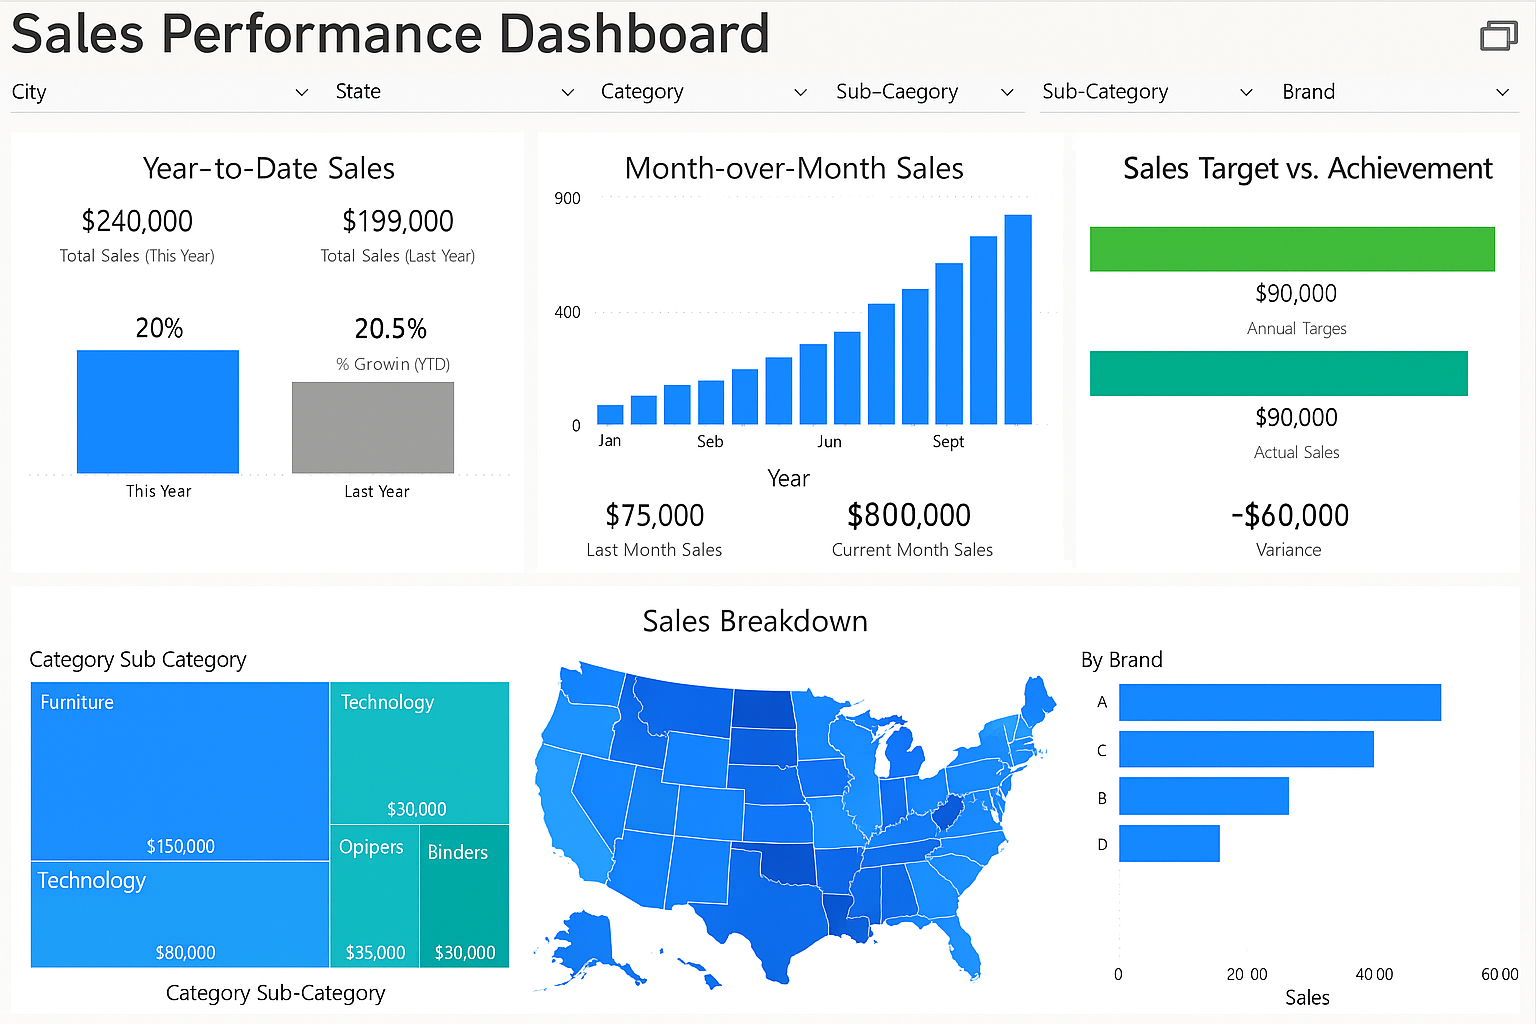

The dashboard page shown, as its layout file describes it:
{"tool":"powerbi","page":{"name":"DashBoard","canvas":[1280,720],"ordinal":0},"visuals":[{"type":"card","fields":{"Values":["SalesData.Total Sales"]},"box":[372.4,74.5,215.4,98.8],"z":0},{"type":"card","fields":{"Values":["SalesData.YTD Sales"]},"box":[799.9,0,239.6,98.8],"z":1},{"type":"card","fields":{"Values":["SalesData.This Month Sales"]},"box":[1037.1,0,242.9,98.8],"z":2},{"type":"card","fields":{"Values":["SalesData.Last Month Sales"]},"box":[374,186.2,215.4,115],"z":3},{"type":"card","fields":{"Values":["SalesData.MoM Growth"]},"box":[587.8,0,226.7,98.8],"z":4},{"type":"slicer","fields":{"Values":["DateTable.Date.Variation.Date Hierarchy.Month"]},"box":[0,72.9,145.7,126.3],"z":5},{"type":"clusteredColumnChart","fields":{"Category":["DateTable.Year"],"Y":["SalesData.YTD Sales","SalesData.Previous YTD Sales"]},"box":[5.7,565,325,155],"z":6},{"type":"clusteredBarChart","fields":{"Category":["SalesData.State"],"Y":["SalesData.Total Sales"]},"box":[330.3,307.7,404.8,173.3],"z":7},{"type":"pieChart","fields":{"Category":["SalesData.Brand"],"Y":["SalesData.Total Sales"]},"box":[335.2,491.7,365.9,228.3],"z":8},{"type":"treemap","fields":{"Group":["SalesData.Category"],"Details":["SalesData.Sub-Category"],"Values":["SalesData.Total Sales"]},"box":[589.4,98.8,374,202.4],"z":9},{"type":"map","fields":{"Category":["SalesData.City"],"Series":["SalesData.Category"]},"box":[1026.6,448,242.9,272],"z":10},{"type":"advancedSlicerVisual","fields":{"Values":["SalesData.State"]},"box":[0,213.7,330.3,168.4],"z":11},{"type":"textbox","box":[0,0,566.7,68],"z":12},{"type":"gauge","fields":{"Y":["SalesData.Total Sales"]},"box":[999.1,307.7,275.3,126.3],"z":13},{"type":"slicer","fields":{"Values":["SalesData.Category","SalesData.Sub-Category"]},"box":[168.4,74.5,191.1,149],"z":14},{"type":"slicer","fields":{"Values":["SalesData.Brand"]},"box":[168.4,388.6,150.6,174.9],"z":15},{"type":"ribbonChart","fields":{"Category":["SalesData.Brand"],"Y":["SalesData.Total Sales"]},"box":[701.1,511.1,325.5,208.9],"z":16},{"type":"donutChart","fields":{"Category":["SalesData.City"],"Y":["CountNonNull(SalesData.Category)"]},"box":[701.1,302.8,297.9,183],"z":17},{"type":"slicer","fields":{"Values":["SalesData.City"]},"box":[0,395.1,145.7,163.5],"z":18},{"type":"lineChart","fields":{"Y":["SalesData.Total Sales"],"Category":["SalesData.Tdate.Variation.Date Hierarchy.Month"]},"box":[975.6,105.2,304.4,202.4],"z":19}]}

Visuals, with their boxes on the page's 1280x720 design canvas (x1, y1, x2, y2). These are canvas units, not pixel positions in the 1536x1024 screenshot, which may show the page scaled, cropped or inside an application window:
card - SalesData.Total Sales: 372/74/588/173
card - SalesData.YTD Sales: 800/0/1040/99
card - SalesData.This Month Sales: 1037/0/1280/99
card - SalesData.Last Month Sales: 374/186/589/301
card - SalesData.MoM Growth: 588/0/814/99
slicer - DateTable.Date.Variation.Date Hierarchy.Month: 0/73/146/199
clusteredColumnChart - DateTable.Year x SalesData.YTD Sales: 6/565/331/720
clusteredBarChart - SalesData.State x SalesData.Total Sales: 330/308/735/481
pieChart - SalesData.Brand x SalesData.Total Sales: 335/492/701/720
treemap - SalesData.Category x SalesData.Sub-Category: 589/99/963/301
map - SalesData.City x SalesData.Category: 1027/448/1270/720
advancedSlicerVisual - SalesData.State: 0/214/330/382
textbox: 0/0/567/68
gauge - SalesData.Total Sales: 999/308/1274/434
slicer - SalesData.Category x SalesData.Sub-Category: 168/74/360/224
slicer - SalesData.Brand: 168/389/319/564
ribbonChart - SalesData.Brand x SalesData.Total Sales: 701/511/1027/720
donutChart - SalesData.City x CountNonNull(SalesData.Category): 701/303/999/486
slicer - SalesData.City: 0/395/146/559
lineChart - SalesData.Total Sales x SalesData.Tdate.Variation.Date Hierarchy.Month: 976/105/1280/308
